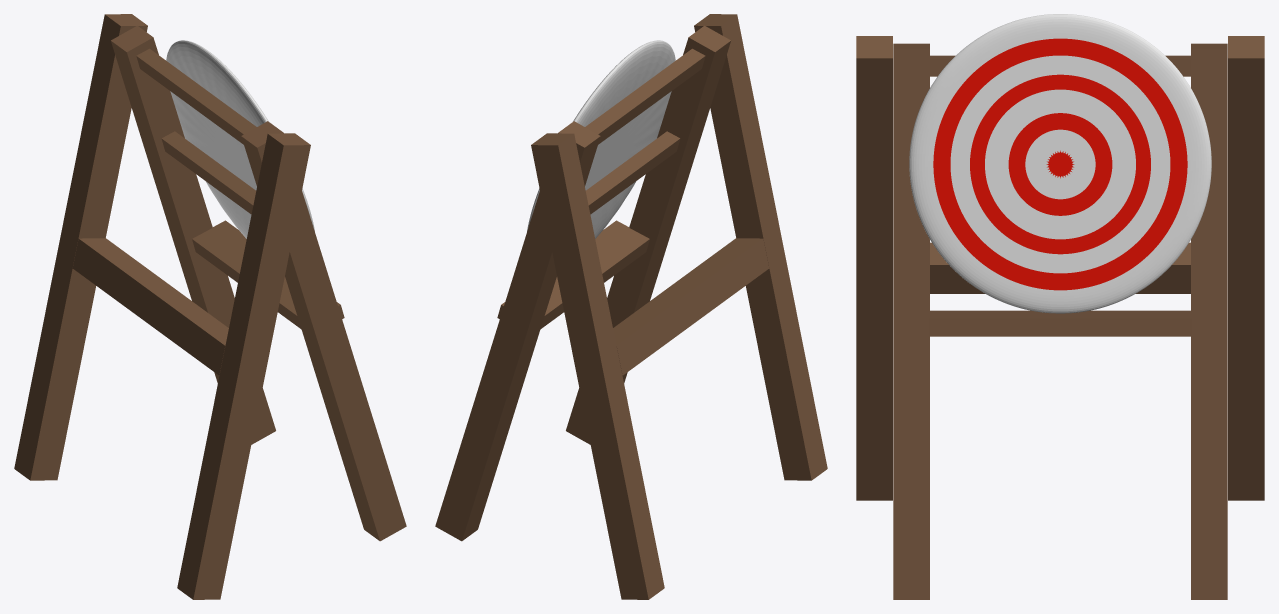
Rendered from Target.fbx.
3 views of the same model, side by side, from view 1: azimuth 30°, elevation 25°; view 2: azimuth 150°, elevation 25°; view 3: azimuth 270°, elevation 25° (orthographic). The views are drawn at different scales.
Visible parts, largest first — view 1: Stand, Stand2, Target_LOD0; view 2: Stand, Stand2, Target_LOD0; view 3: Target_LOD0, Stand2, Stand.
Part boxes in pixels (x1,y1,x2,y2): Stand: [14, 14, 310, 599]; Stand2: [111, 25, 406, 541]; Target_LOD0: [166, 40, 314, 238]; Stand: [531, 14, 827, 599]; Stand2: [435, 25, 730, 541]; Target_LOD0: [527, 40, 675, 238]; Target_LOD0: [909, 14, 1211, 313]; Stand2: [893, 43, 1227, 599]; Stand: [856, 36, 1264, 500].
Size of what is drawn, in the model's own units: 163 by 314 by 220.
